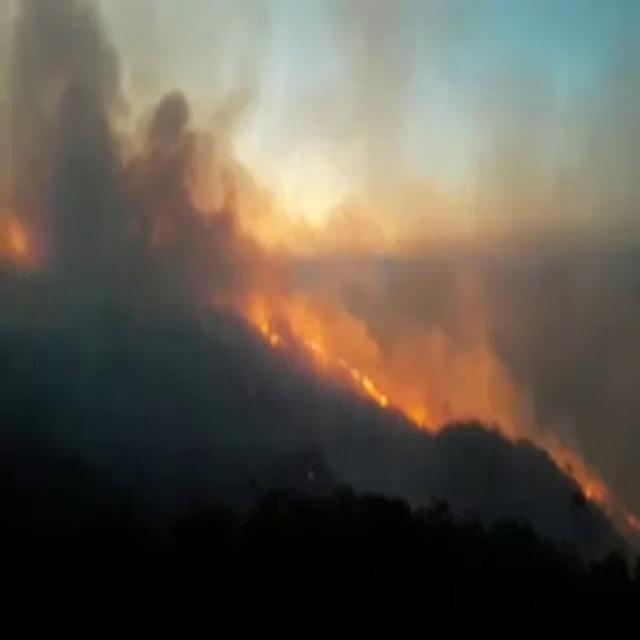Fire: (243, 293, 331, 357), (341, 352, 388, 408)
Smoke: (5, 11, 638, 604), (6, 0, 240, 351), (504, 27, 636, 462), (331, 434, 629, 590), (440, 223, 554, 452), (433, 238, 511, 434)
